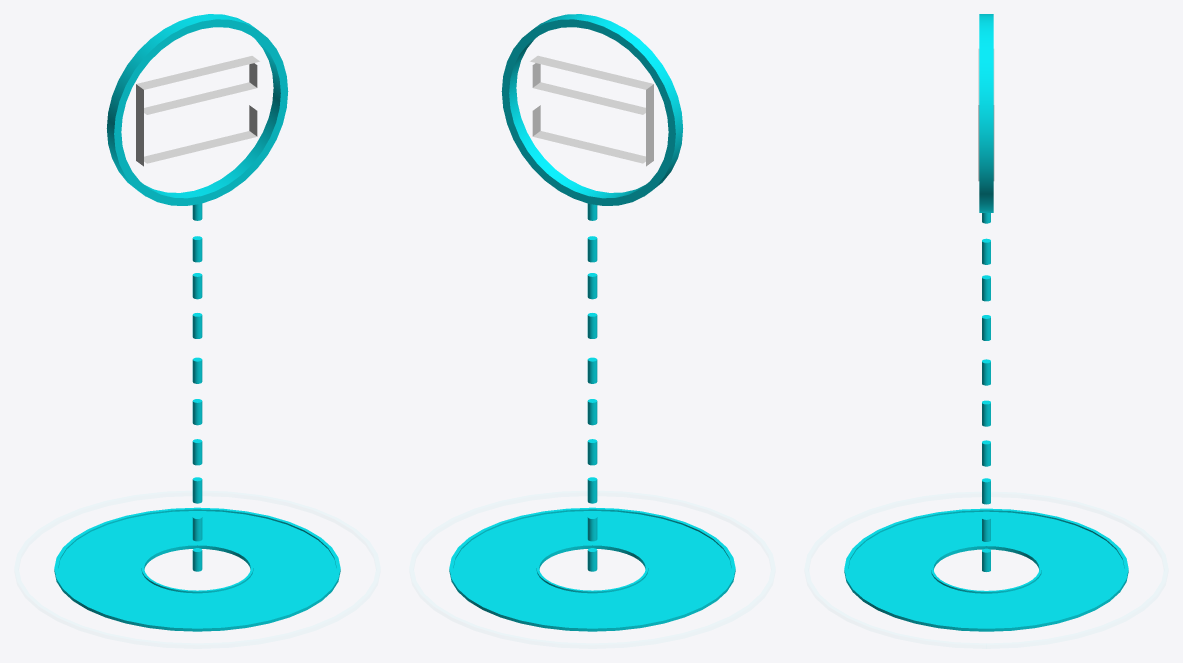
Rendered from xiangjiaoba.gltf.
3 views of the same model, side by side, from view 1: azimuth 30°, elevation 25°; view 2: azimuth 150°, elevation 25°; view 3: azimuth 270°, elevation 25° (orthographic).
Parts seen in each view (by area): view 1: Z_UP, xiangjiaoba; view 2: Z_UP, xiangjiaoba; view 3: Z_UP, xiangjiaoba.
Part boxes in pixels (x1=…): Z_UP: x1=54, y1=14, x2=340, y2=631; xiangjiaoba: x1=136, y1=56, x2=259, y2=166; Z_UP: x1=449, y1=14, x2=735, y2=631; xiangjiaoba: x1=530, y1=55, x2=653, y2=166; Z_UP: x1=844, y1=14, x2=1128, y2=631; xiangjiaoba: x1=978, y1=48, x2=994, y2=181.
Size of the model in its own units: 4.52 by 7.52 by 4.52.
